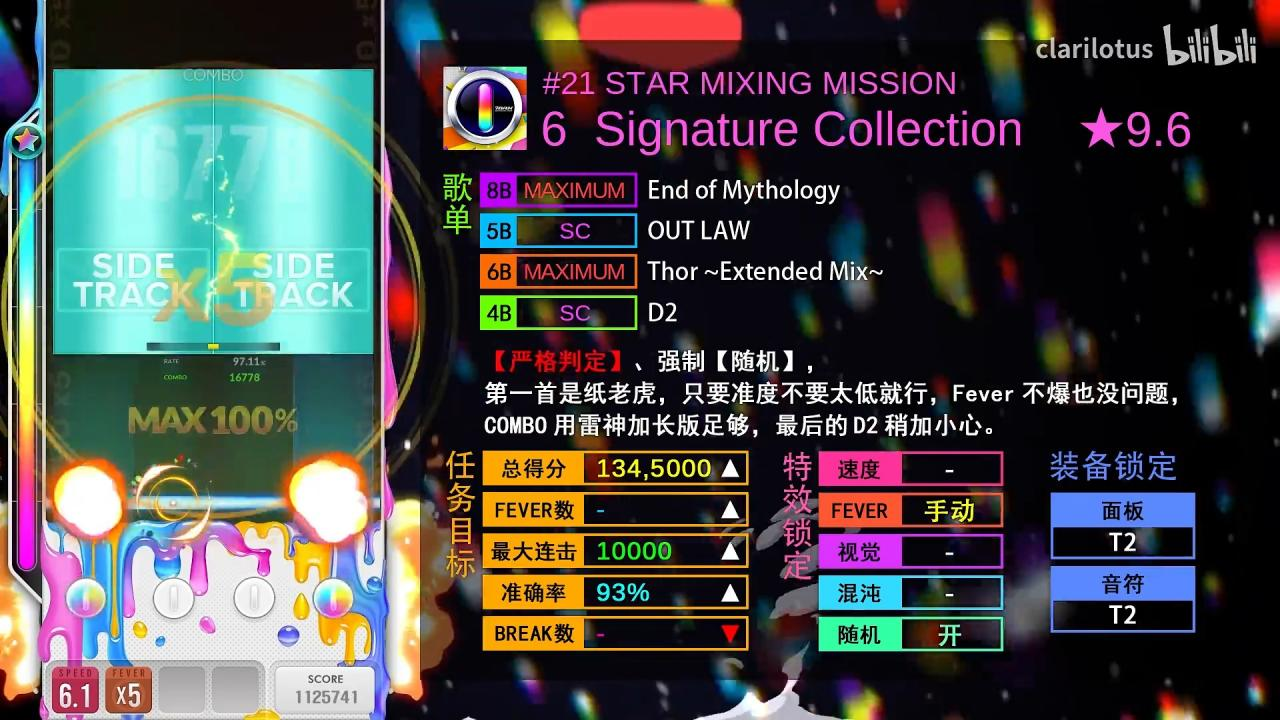side-end: (53, 68, 213, 82), (213, 69, 373, 82)
side-start: (54, 339, 213, 355), (213, 340, 374, 354)
